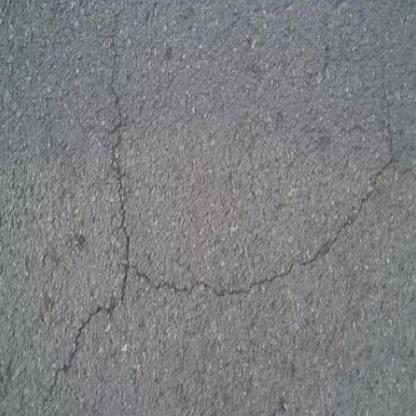Cracks: (71, 2, 169, 296), (93, 231, 406, 323), (26, 287, 134, 416), (363, 50, 416, 179), (329, 167, 398, 255)
